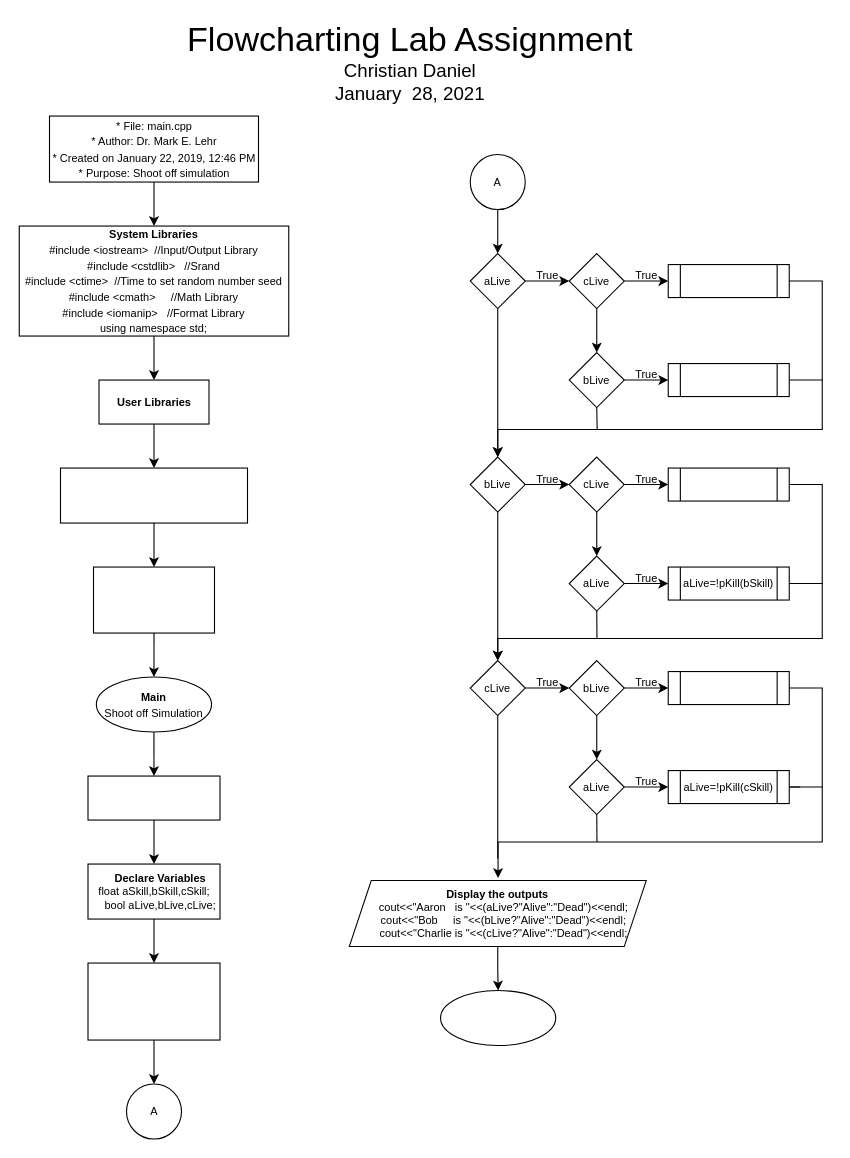
This 850x1158 diagram has some shape labels left out. Each missing label, with the centre of its shape:
"bLive=!pKill(aSkill)" belongs at (728,379).
"bLive=!pKill(cSkill)" belongs at (728,687).
"cLive=!pKill(aSkill)" belongs at (728,280).
"cLive=!pKill(bSkill)" belongs at (728,484).
"Function Prototypes float pUnifrm(); bool pKill(float);" belongs at (153,599).
"Global Constants const float MAXRAND=pow(2,31)-1;" belongs at (153,495).
"Initialize aSkill=1.0f/3 bSkill=1.0f/2 cSkill=1.0f aLive=bLive=cLive=true" belongs at (153,1001).
"return from Shoot off Simulation" belongs at (497,1017).
"Set random number seed with time" belongs at (153,797).
